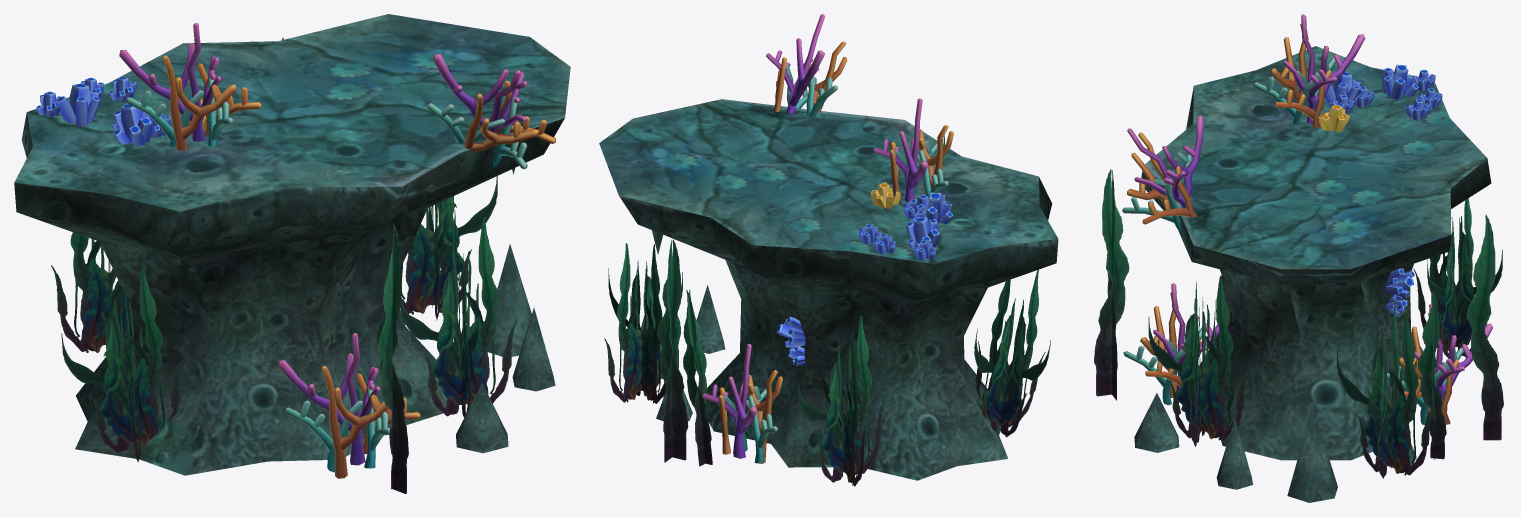
The model's file is Battle05_Stone_04.FBX.
The picture shows the model from 3 angles, left to right: view 1: azimuth 30°, elevation 25°; view 2: azimuth 150°, elevation 25°; view 3: azimuth 270°, elevation 25°; orthographic projection. The views are drawn at different scales.
Visible parts, largest first — view 1: Battle05_Stone_04_01, Battle05_Stone_04_02, Battle05_Stone_04_03; view 2: Battle05_Stone_04_01, Battle05_Stone_04_02, Battle05_Stone_04_03; view 3: Battle05_Stone_04_01, Battle05_Stone_04_02, Battle05_Stone_04_03.
Boxes of the visible parts, bbox=[...] form: Battle05_Stone_04_01: bbox=[14, 14, 570, 475]; Battle05_Stone_04_02: bbox=[51, 37, 517, 493]; Battle05_Stone_04_03: bbox=[36, 54, 555, 169]; Battle05_Stone_04_01: bbox=[599, 98, 1058, 480]; Battle05_Stone_04_02: bbox=[604, 135, 1050, 486]; Battle05_Stone_04_03: bbox=[766, 14, 935, 366]; Battle05_Stone_04_01: bbox=[1134, 14, 1491, 502]; Battle05_Stone_04_02: bbox=[1094, 169, 1503, 478]; Battle05_Stone_04_03: bbox=[1122, 70, 1442, 315].
Bounding box in the file's own units: 18.5 × 14.43 × 14.57.
